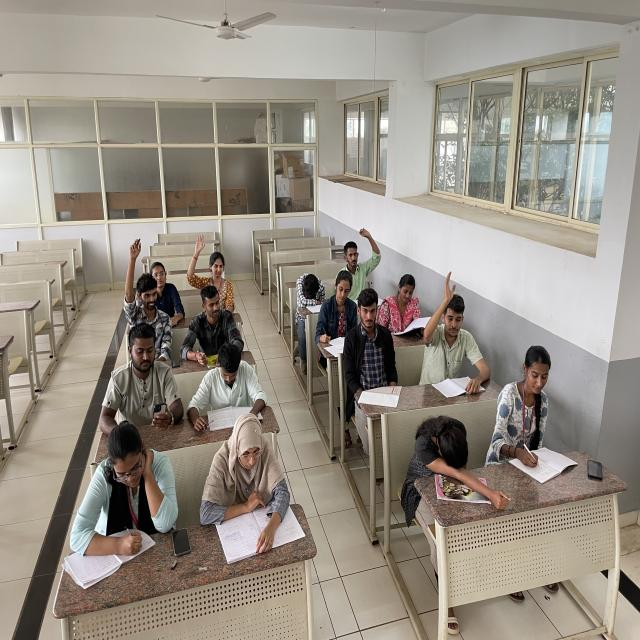Hand Rising: (422, 268, 490, 389), (120, 238, 172, 351), (184, 227, 241, 311), (342, 228, 382, 290)
Reading: (180, 340, 273, 436), (213, 417, 294, 523), (378, 274, 433, 332)
Sleeping: (406, 405, 488, 484), (294, 268, 331, 326)
Using Phone: (110, 316, 178, 429)
Writing: (77, 408, 162, 570), (495, 332, 569, 476), (316, 271, 359, 365)
